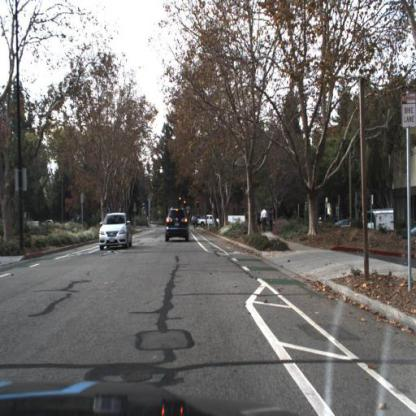car: (98, 210, 134, 254), (164, 207, 191, 243)
truck: (364, 209, 397, 235)
